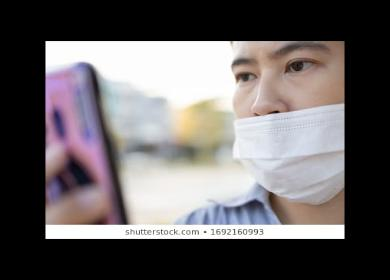mask_weared_incorrect: (232, 42, 345, 196)
